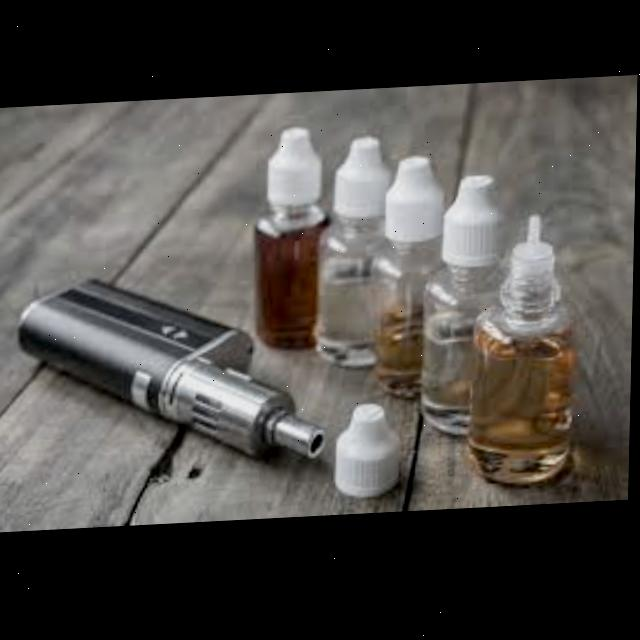vape: (17, 268, 332, 477)
